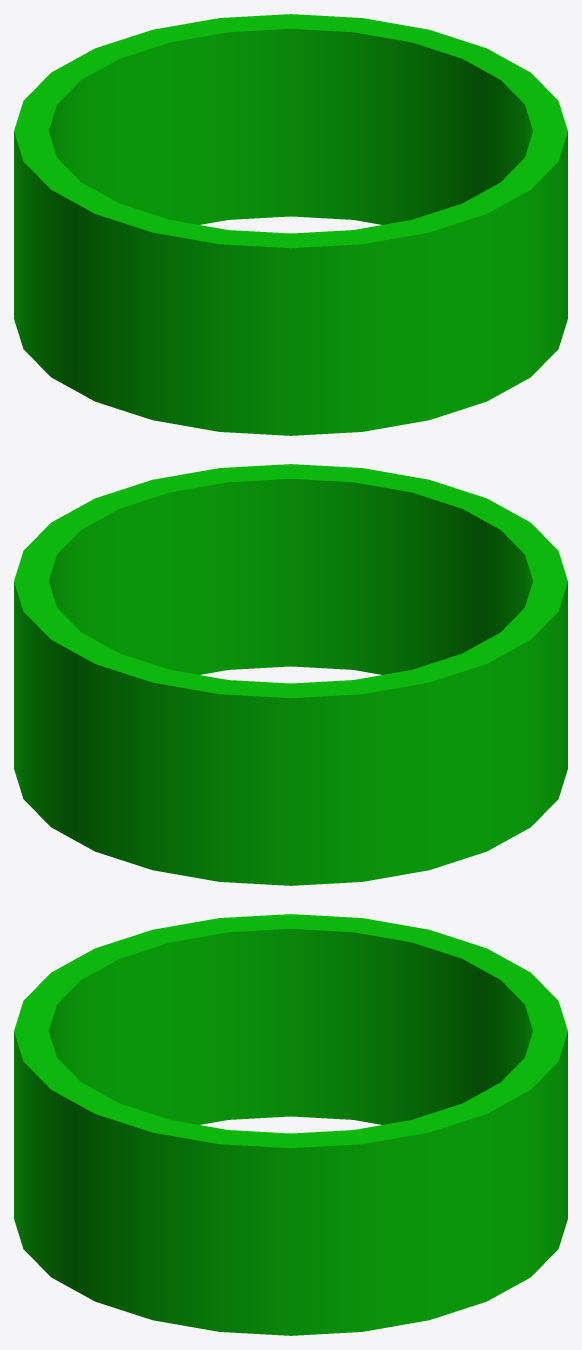
Rendered from CylinderBase-2-13-6.fbx.
The picture shows the model from 3 angles, top to bottom: view 1: azimuth 30°, elevation 25°; view 2: azimuth 150°, elevation 25°; view 3: azimuth 270°, elevation 25°; orthographic projection.
Visible parts, largest first — view 1: Model; view 2: Model; view 3: Model.
Part boxes in pixels (x1,y1,x2,y2): Model: [14, 14, 567, 435]; Model: [14, 464, 567, 885]; Model: [14, 914, 567, 1335].
Size of the model in its own units: 6.32 by 2.36 by 6.32.
